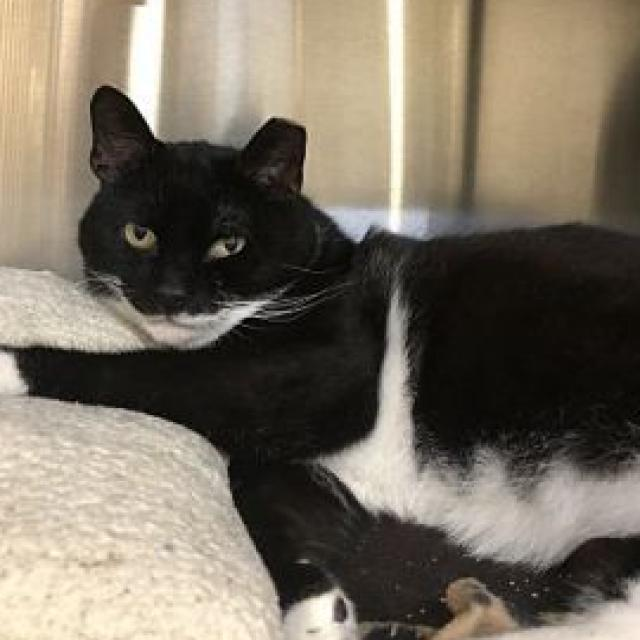Tuxedo: (0, 76, 640, 640)
